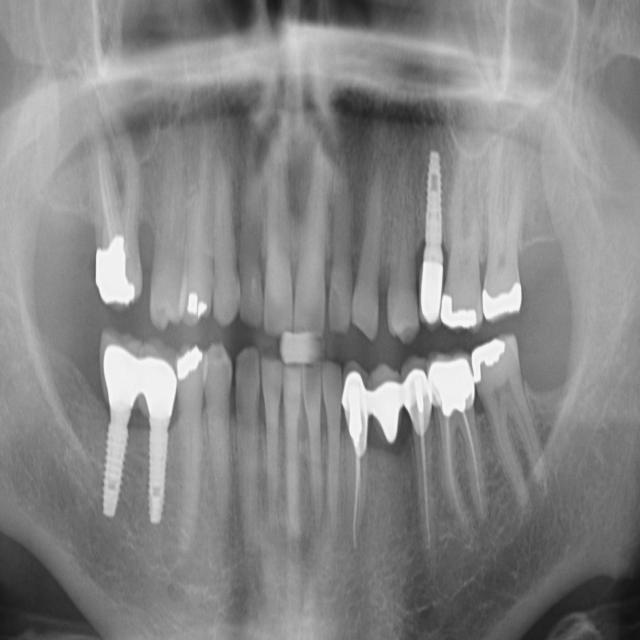infected-teeth: (428, 353, 488, 536), (91, 119, 145, 309), (404, 357, 435, 569), (342, 367, 370, 566)
